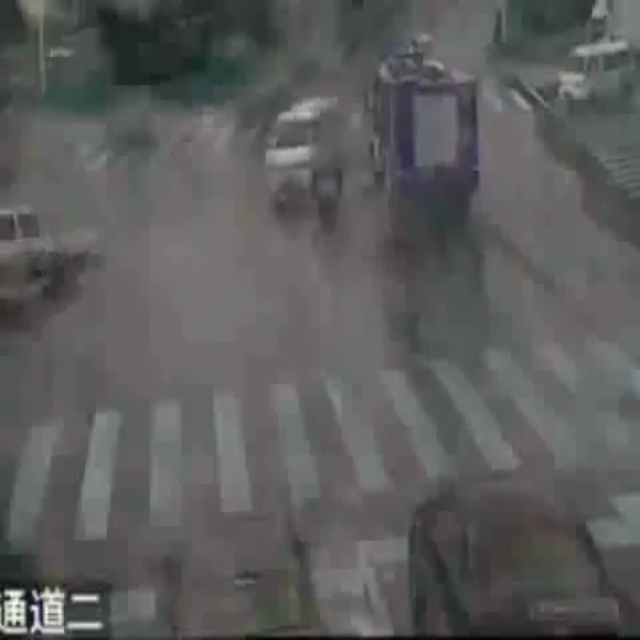acc: (243, 51, 477, 239)
